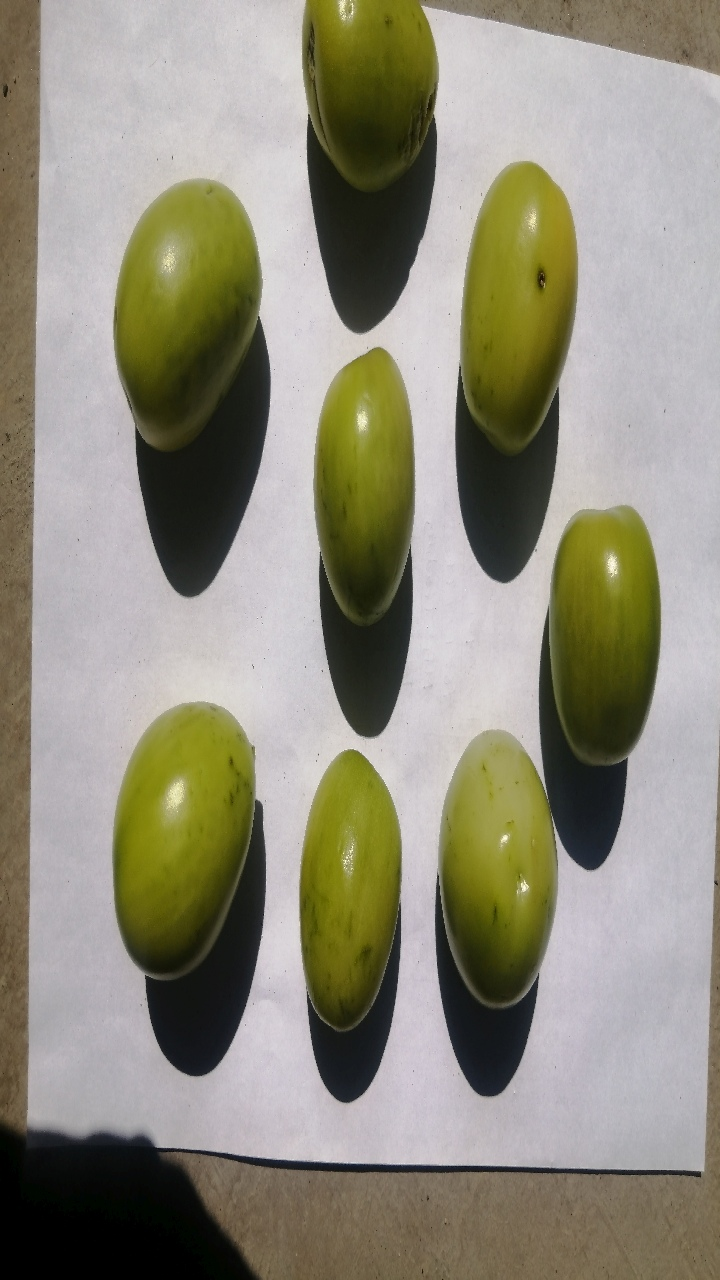tomateVerde: (89, 154, 271, 486), (429, 152, 609, 485), (88, 688, 271, 1000), (423, 714, 595, 1037), (251, 1, 484, 212), (284, 342, 446, 640), (280, 729, 421, 1059), (526, 480, 671, 768)
